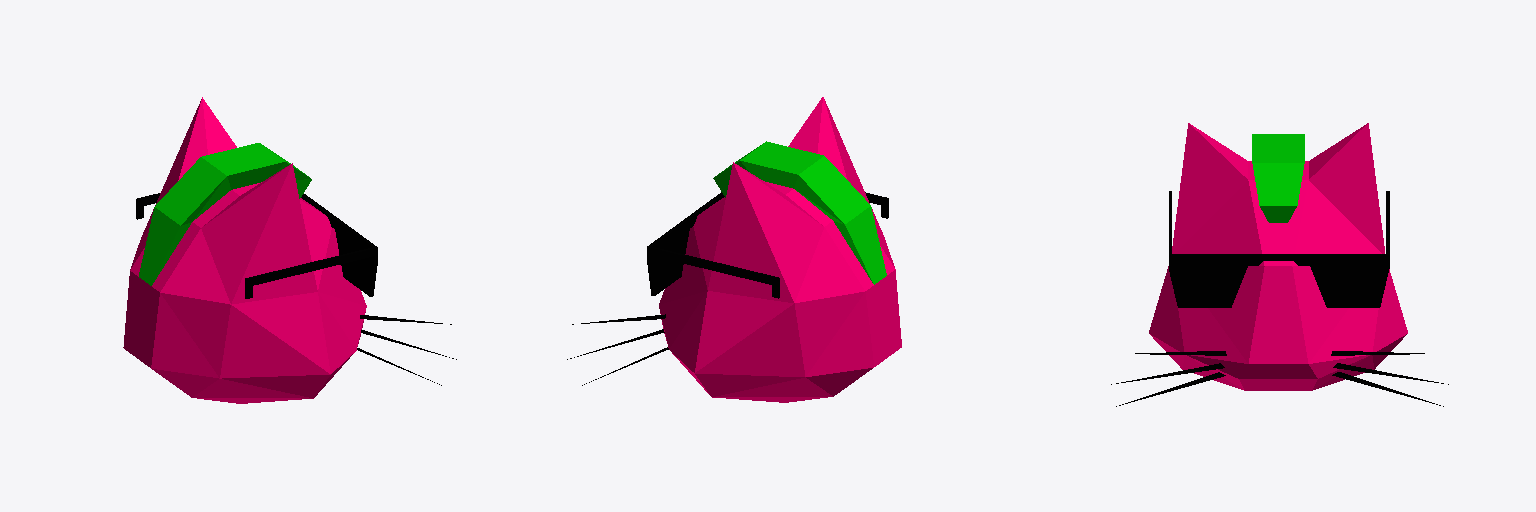
The model's file is aurinkolasikissa.obj.
3 renders of one model, left to right at view 1: azimuth 30°, elevation 25°; view 2: azimuth 150°, elevation 25°; view 3: azimuth 270°, elevation 25°, orthographic.
Parts seen in each view (by area): view 1: Cube; view 2: Cube; view 3: Cube.
Part boxes in pixels (bbox=[...]): Cube: bbox=[123, 97, 456, 403]; Cube: bbox=[567, 97, 901, 402]; Cube: bbox=[1111, 123, 1448, 406].
Size of the model in its own units: 3.06 by 3.15 by 3.84.